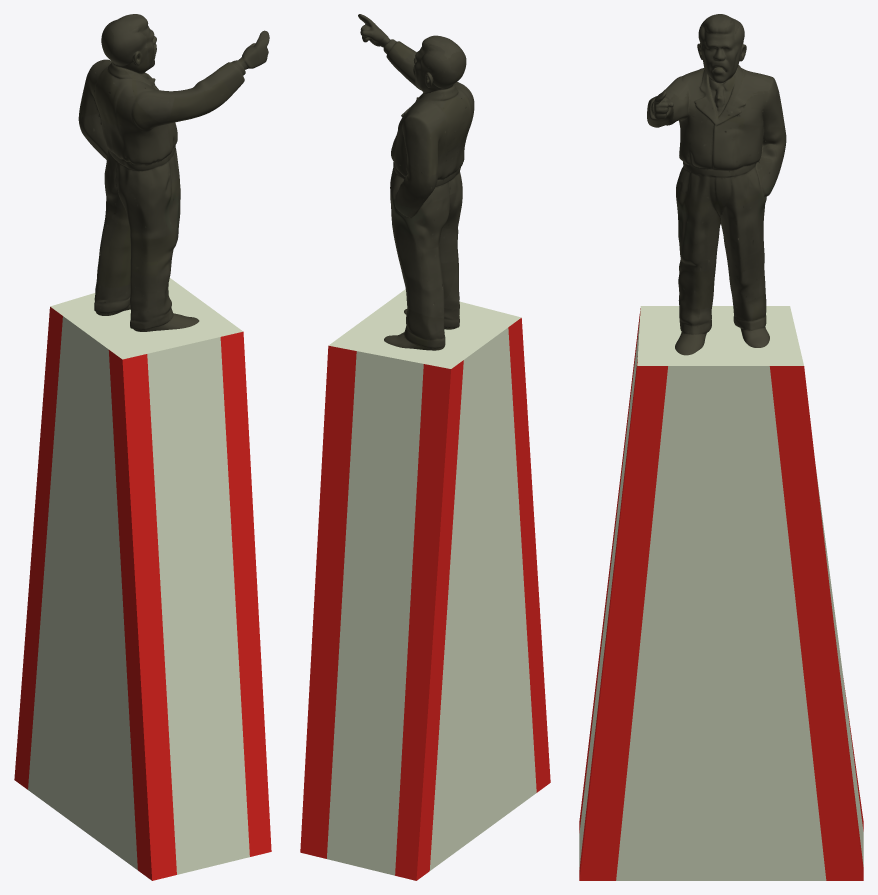
The model's file is Pedestalfederico.glb.
3 renders of one model, left to right at view 1: azimuth 30°, elevation 25°; view 2: azimuth 150°, elevation 25°; view 3: azimuth 270°, elevation 25°, orthographic. The views are drawn at different scales.
Visible parts, largest first — view 1: Cube.001, tripo_node_65532282-ed0e-43d0-bb7a-b32a5a6fd552; view 2: Cube.001, tripo_node_65532282-ed0e-43d0-bb7a-b32a5a6fd552; view 3: Cube.001, tripo_node_65532282-ed0e-43d0-bb7a-b32a5a6fd552.
Part boxes in pixels (left/top/right/bottom): Cube.001: left=14, top=278, right=271, bottom=880; tripo_node_65532282-ed0e-43d0-bb7a-b32a5a6fd552: left=78, top=14, right=269, bottom=331; Cube.001: left=300, top=289, right=550, bottom=880; tripo_node_65532282-ed0e-43d0-bb7a-b32a5a6fd552: left=358, top=14, right=474, bottom=350; Cube.001: left=579, top=306, right=863, bottom=880; tripo_node_65532282-ed0e-43d0-bb7a-b32a5a6fd552: left=647, top=14, right=786, bottom=355.
Bounding box in the file's own units: 1.32 × 6.42 × 2.
Materials: 3 (1 with a texture image).
